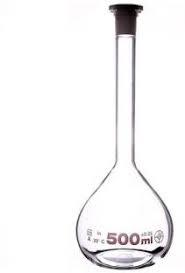Volumetric flask: (68, 16, 183, 268)
